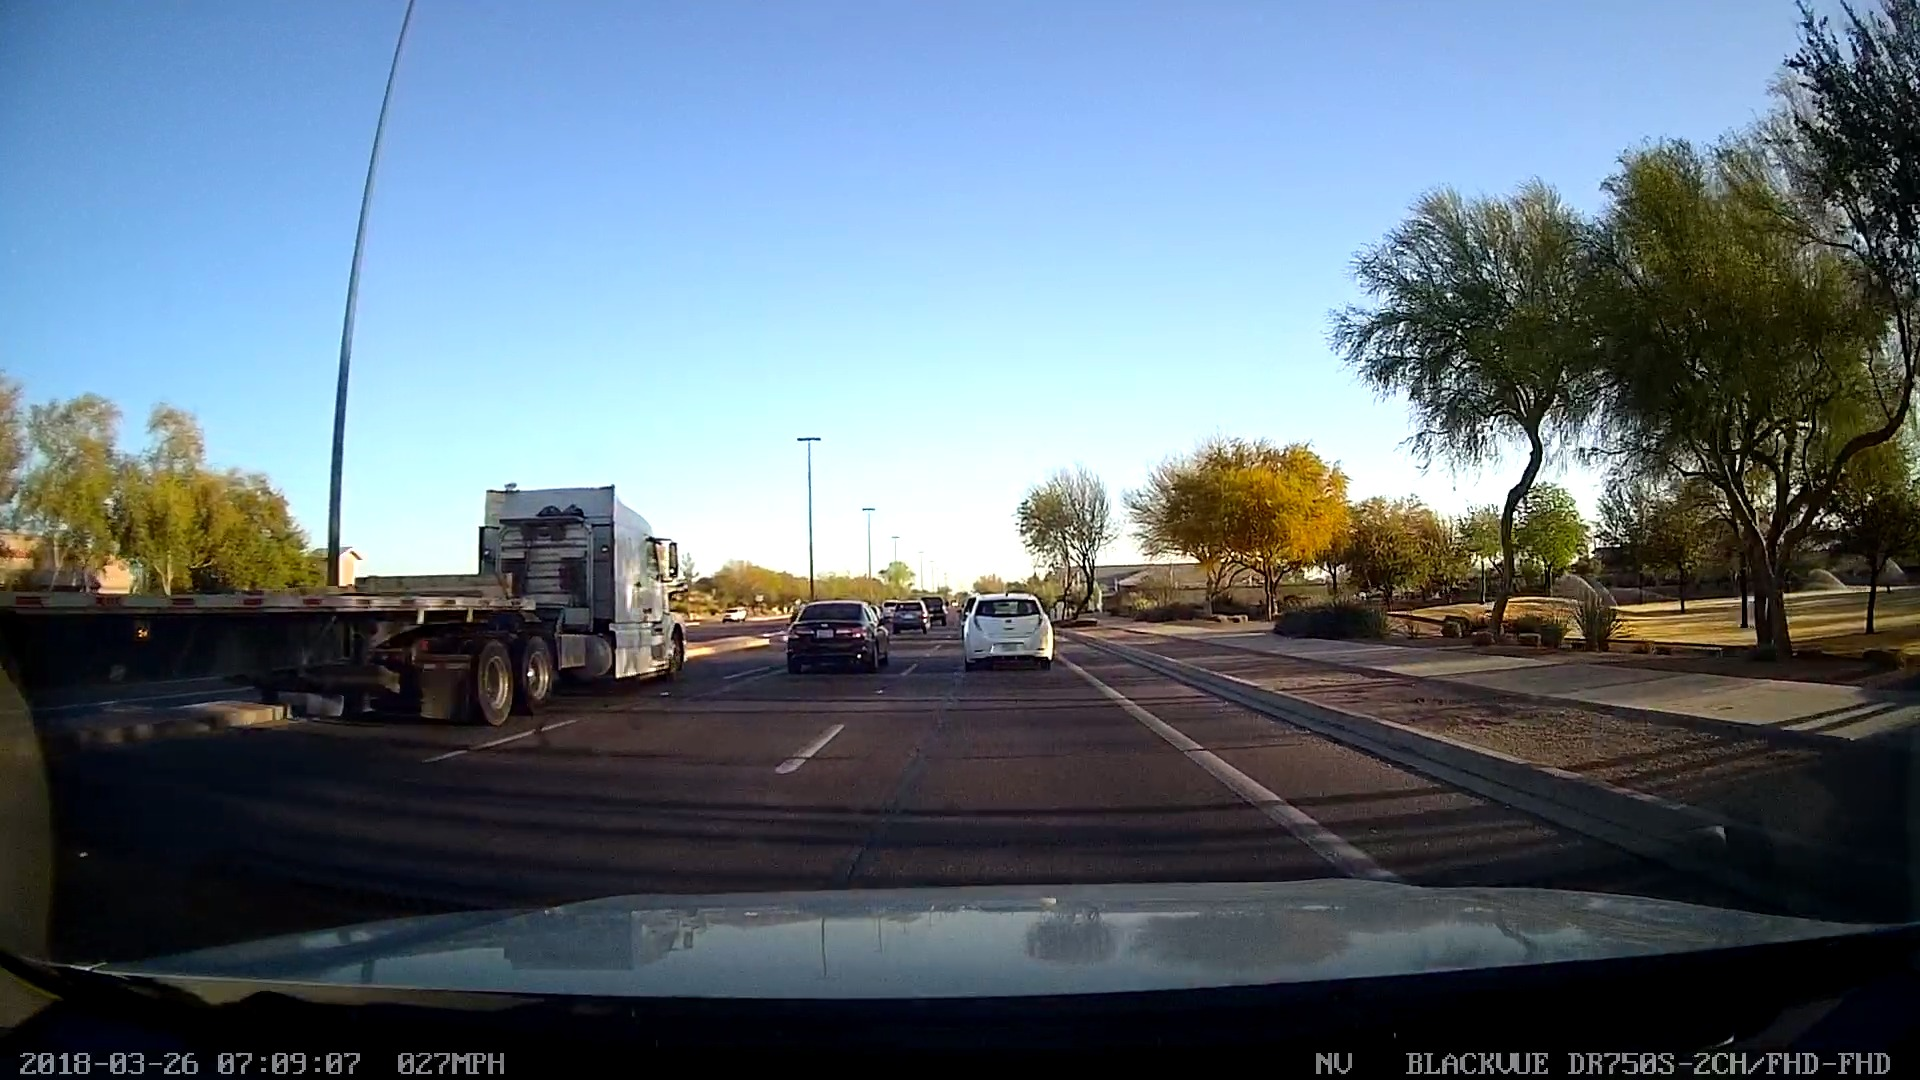vehicle: (0, 462, 695, 749), (746, 580, 898, 692), (940, 570, 1063, 680)
